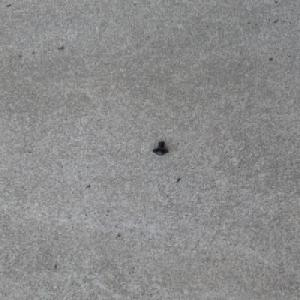BoltWasher: (152, 141, 169, 155)
